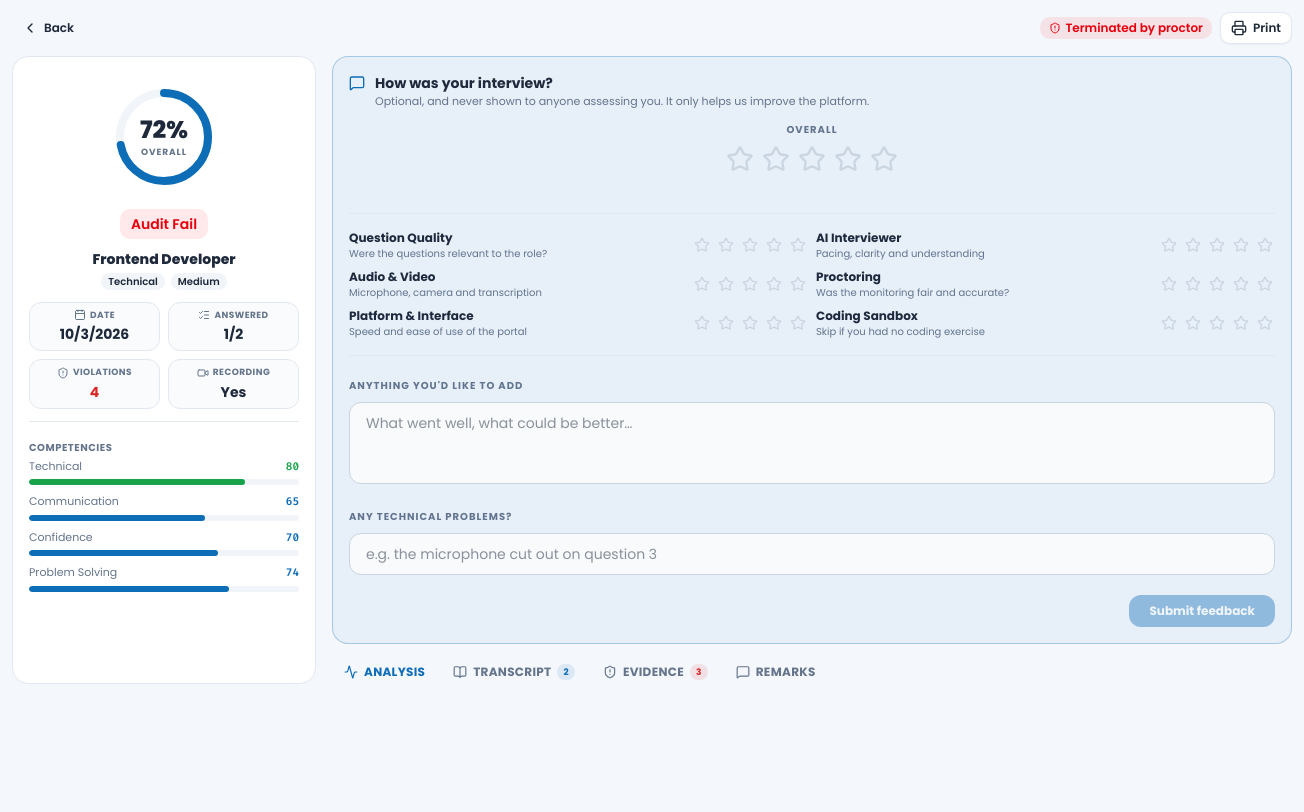
Test: ReportDetailPage › submits the rating and categories, then stops asking
Expected: the heading "How was your interview?" is shown, [375,73,553,93]
Step 1. Click the radio button named "4 out of 5" in the row of "Were the questions relevant to the role?" → {"x": 774, "y": 245}, box [764,235,784,255]
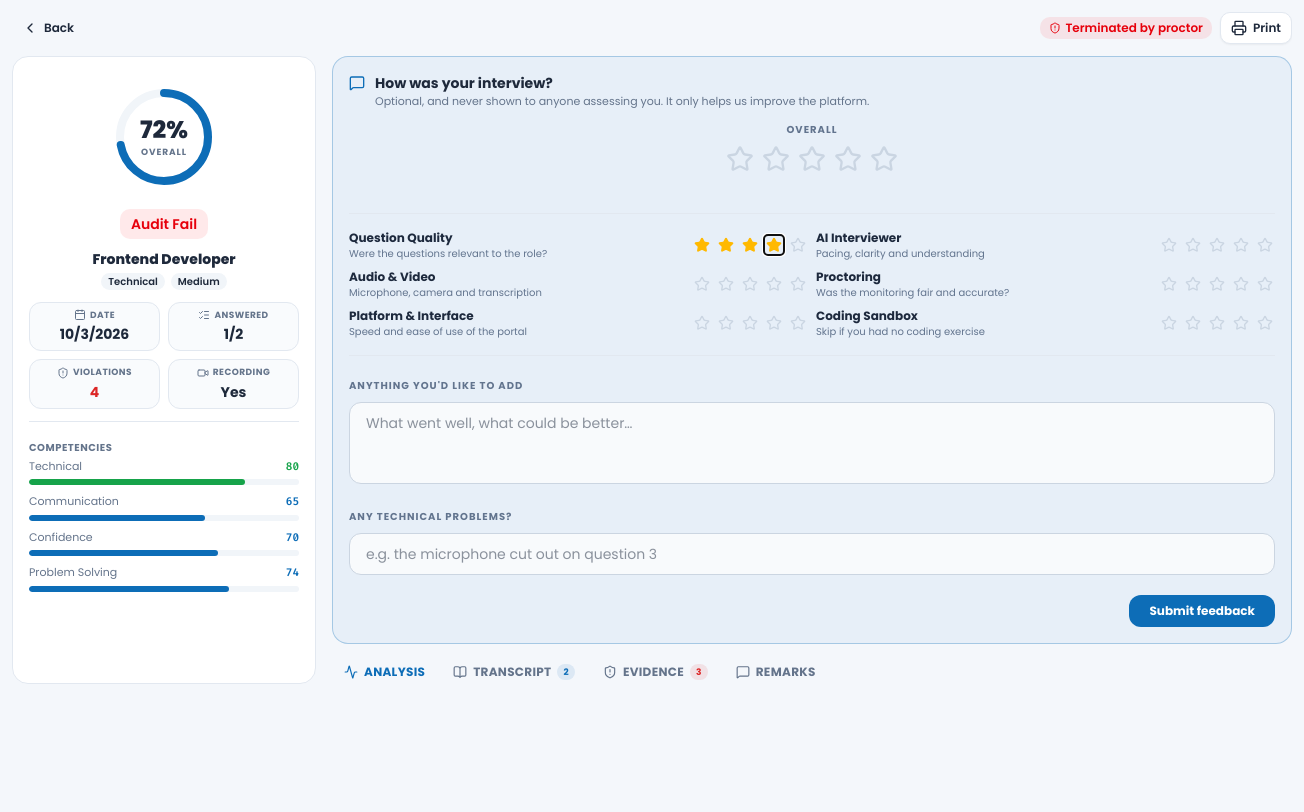
Step 2. Click the button "Submit feedback" → {"x": 1202, "y": 610}, box [1130,594,1275,626]
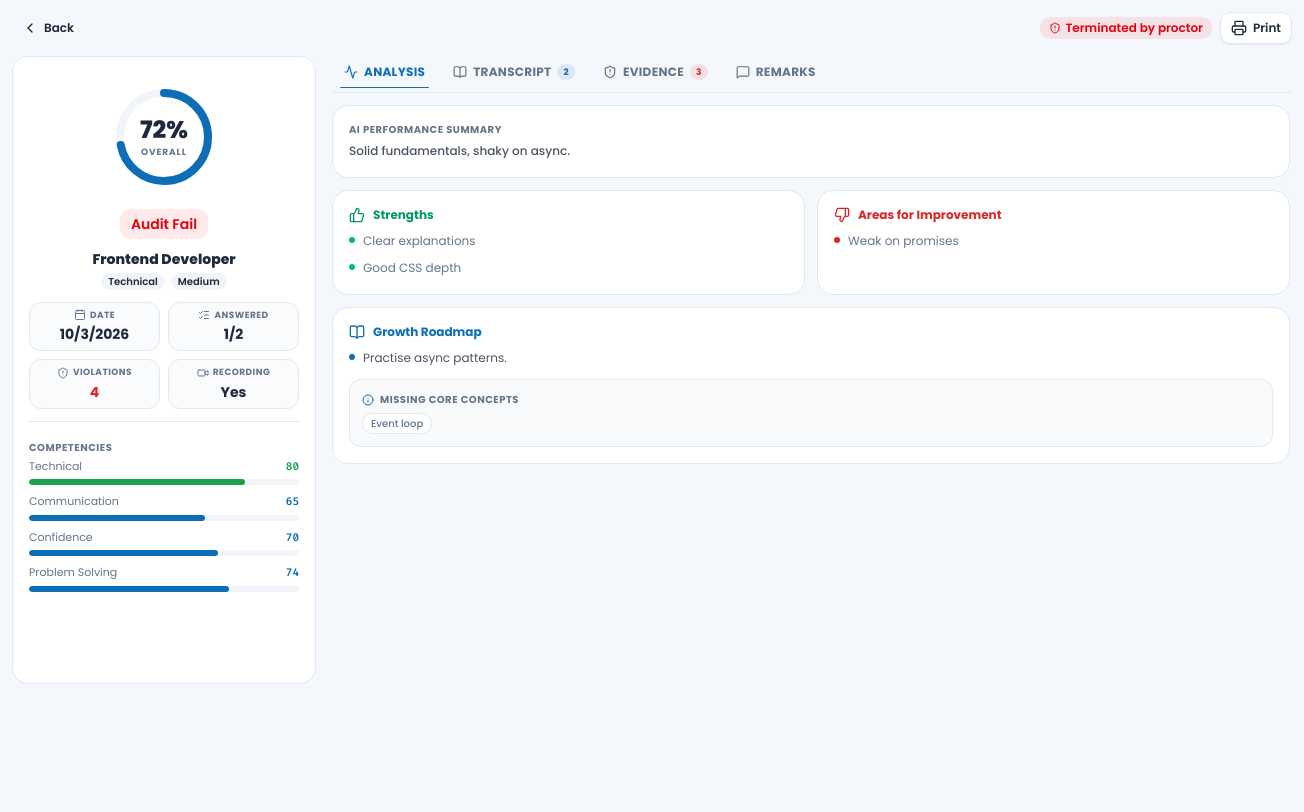
Now the heading "How was your interview?" is gone
